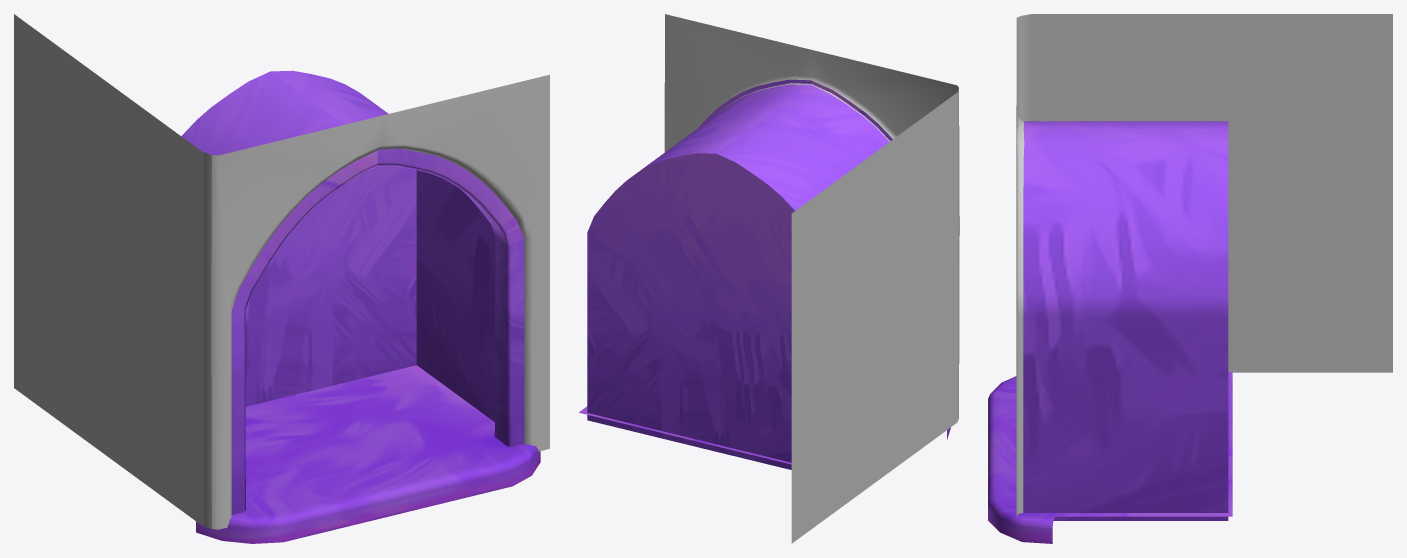
File: BrickDoorEnter.fbx
The picture shows the model from 3 angles, left to right: view 1: azimuth 30°, elevation 25°; view 2: azimuth 150°, elevation 25°; view 3: azimuth 270°, elevation 25°; orthographic projection. The views are drawn at different scales.
Parts seen in each view (by area): view 1: BrickWallDoorEnter; view 2: BrickWallDoorEnter; view 3: BrickWallDoorEnter.
Boxes of the visible parts, bbox=[...] form: BrickWallDoorEnter: bbox=[14, 14, 549, 543]; BrickWallDoorEnter: bbox=[579, 14, 959, 543]; BrickWallDoorEnter: bbox=[988, 14, 1392, 543].
Bounding box in the file's own units: 95 × 104 × 102.
